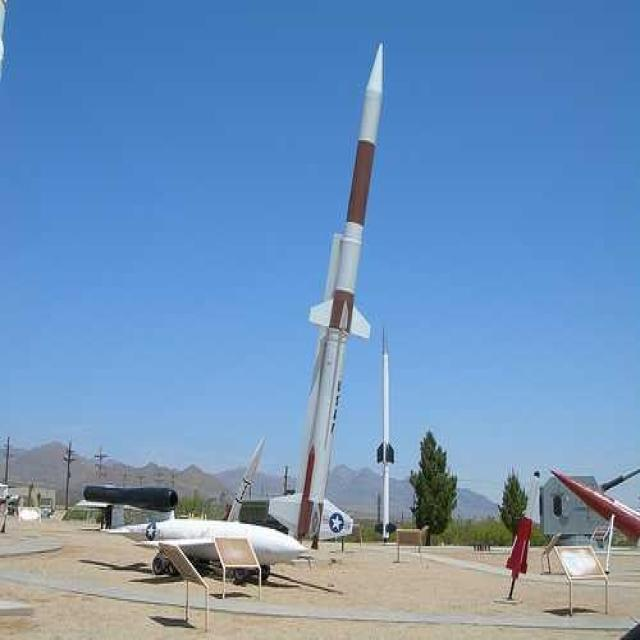missile: (307, 37, 386, 342)
